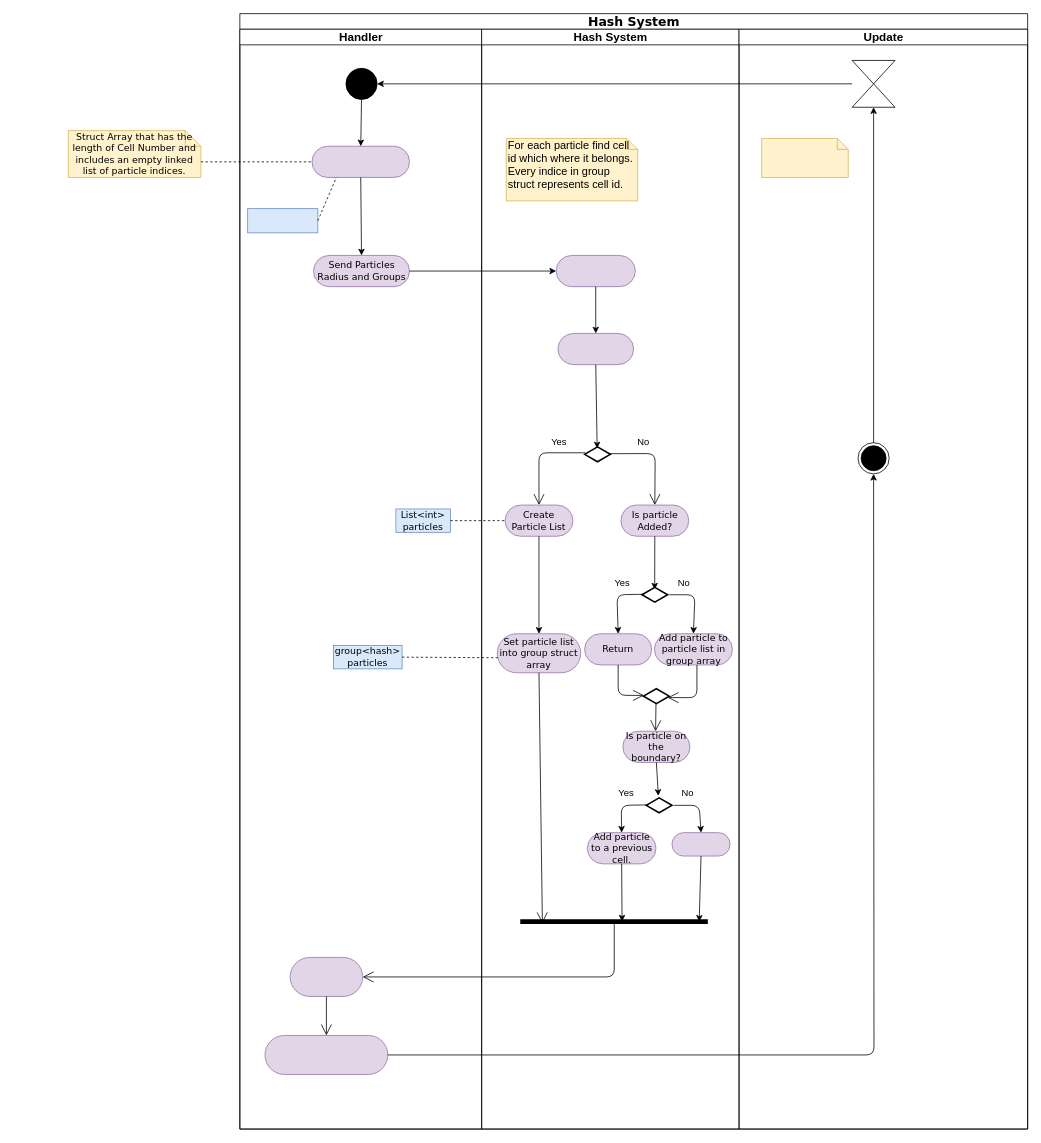
Image size: 1041x1143. Some labels were removed from this diagram. The shapes that lost their labels are listed below. From the top down, each one's box as (x1, y1, x2, y2) in pixels, then its label:
(311, 145, 410, 177): Create Struct For Hashing Algorithm
(761, 138, 848, 177): Update repeats it for each frame.
(247, 208, 318, 233): groups[]<hash>
(555, 255, 635, 287): Find Cell Id
(557, 333, 634, 365): Is cell empty?
(671, 832, 730, 856): Add Particle on a cell
(289, 957, 363, 996): Send Hashed Particles.
(264, 1035, 388, 1074): Make rest of the calculations and pass to next frame.
